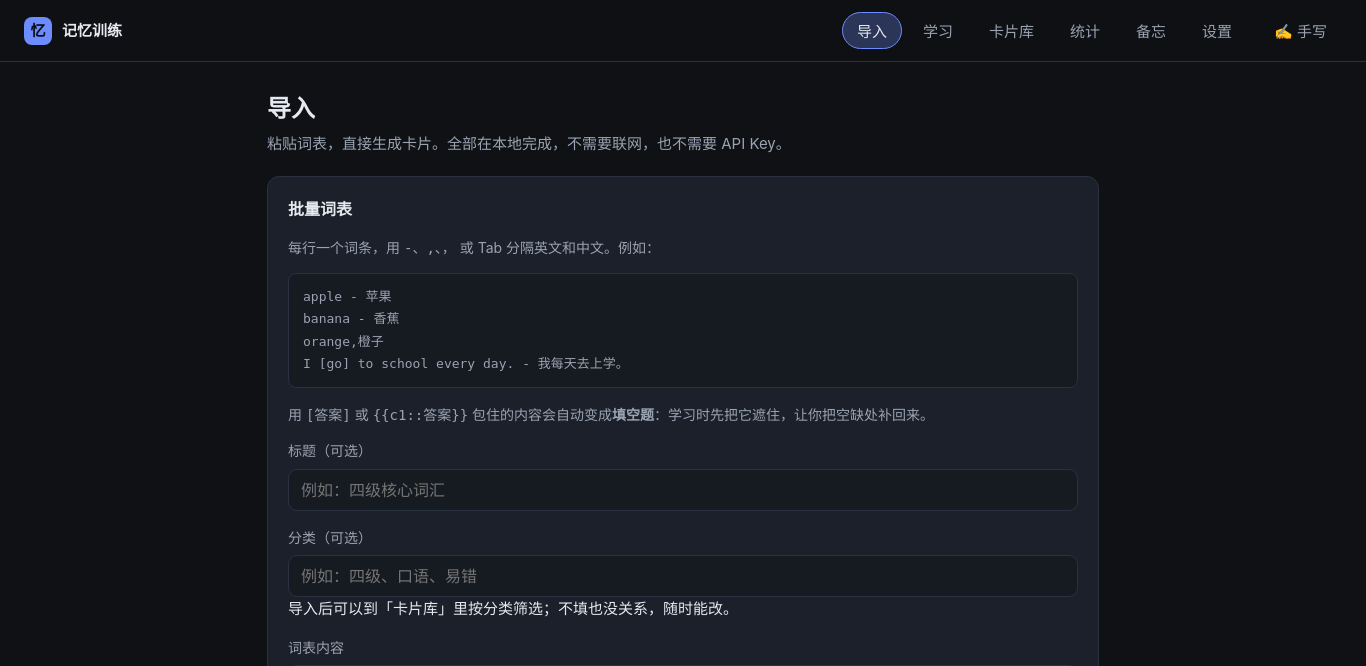
Scenario: 卡片库分类 › 没有分类时给出提示
Expected: the heading "导入" is shown, [267, 94, 315, 123]
Click the button "卡片库". click: (1012, 30)
box: [974, 12, 1049, 49]
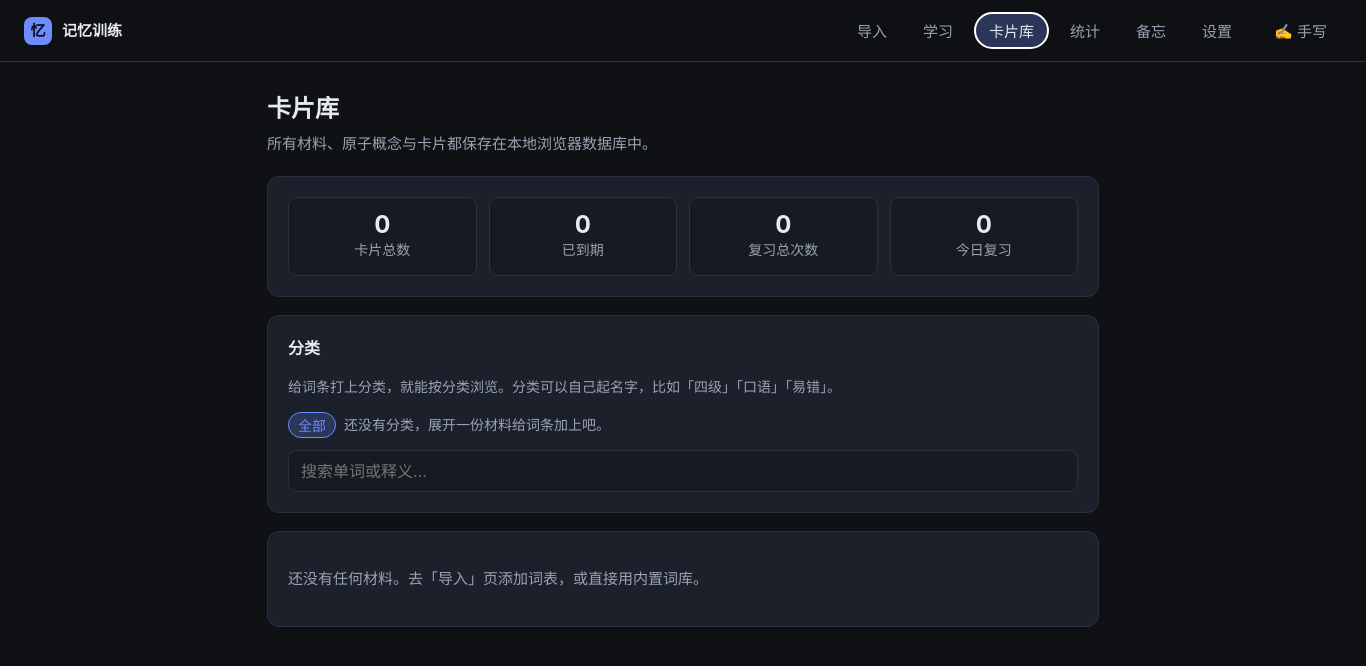
Result: the heading "卡片库" is shown at [267, 94, 339, 123]
Result: the text "还没有分类，展开一份材料给词条加上吧。" is shown at [344, 414, 610, 436]
